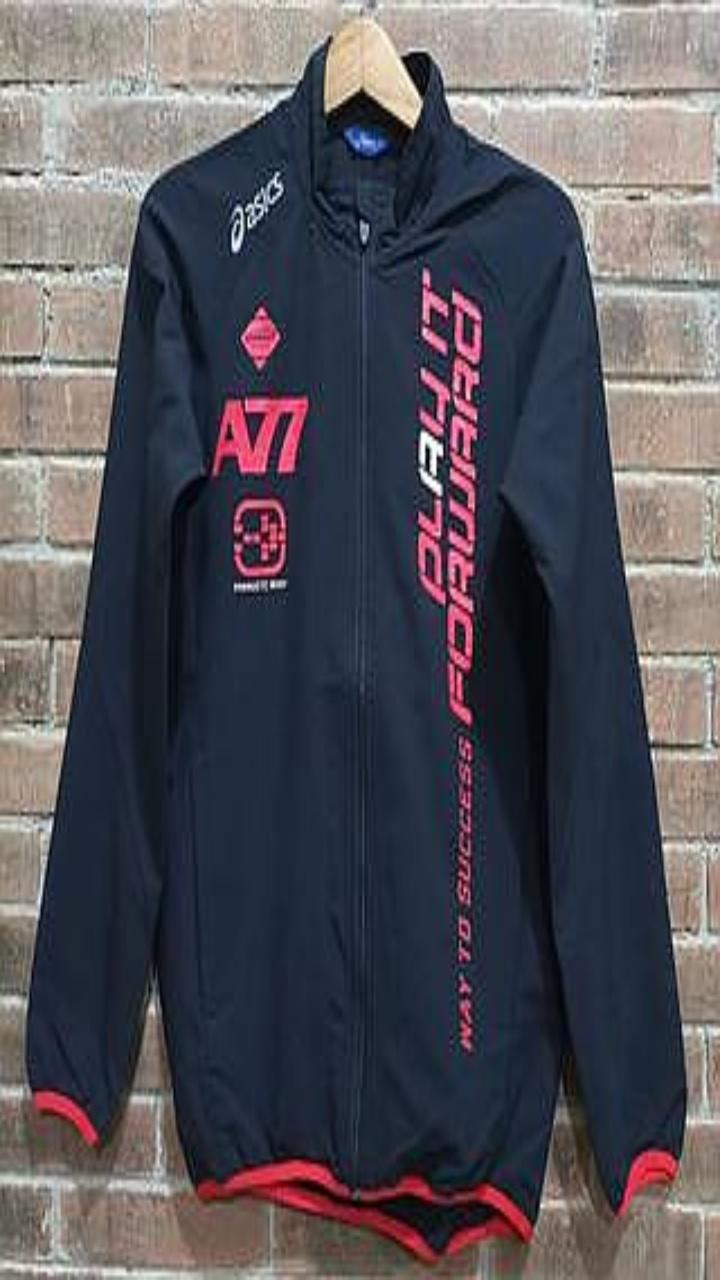Sports_Jacket: (26, 37, 685, 1261)
